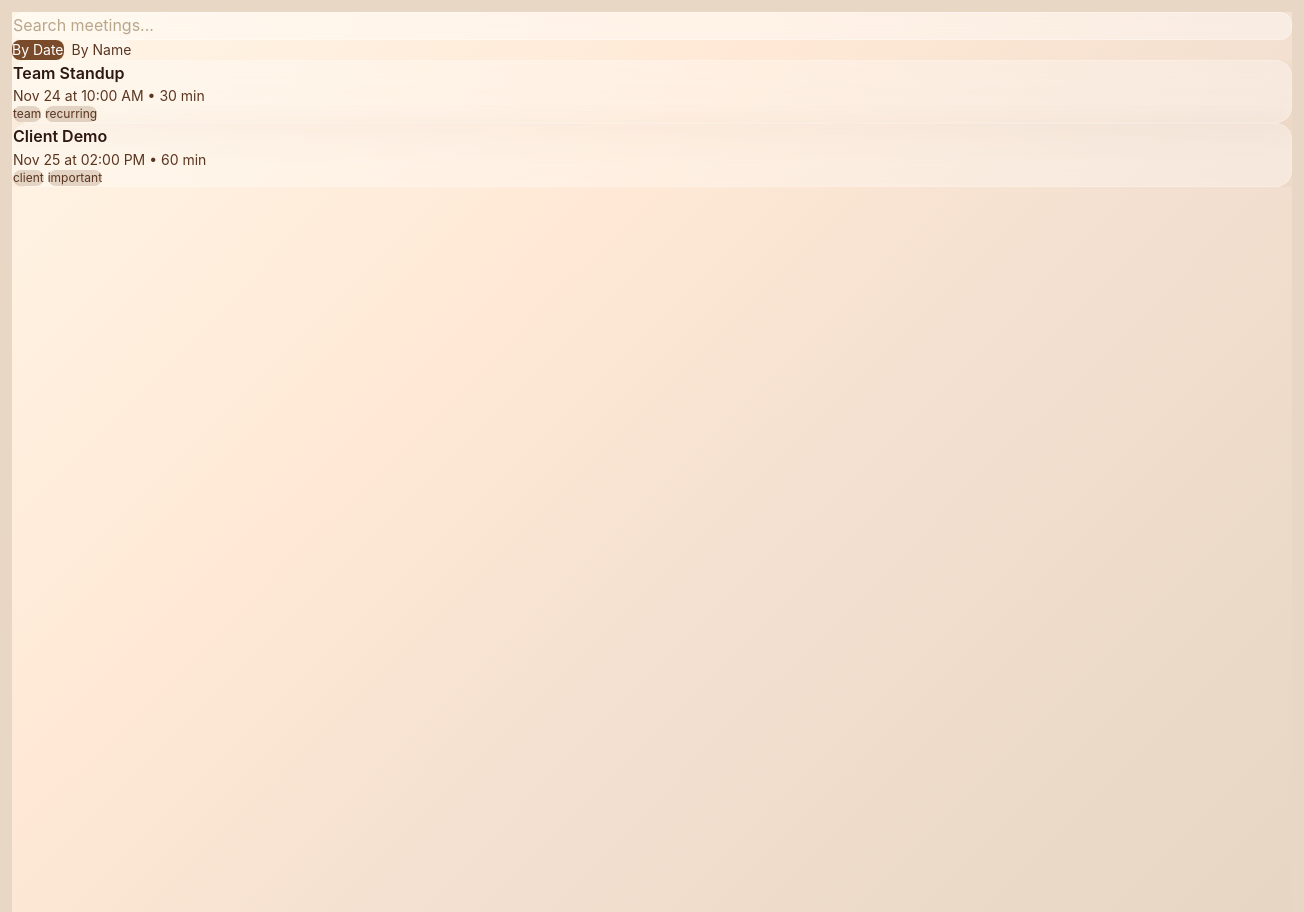
Scenario: MeetingList Component › filters meetings by search query
The image size is (1304, 912).
Type "Client" into the search field with placeholder "Search meetings..." at coordinates (652, 26), box 12,12 -> 1292,40
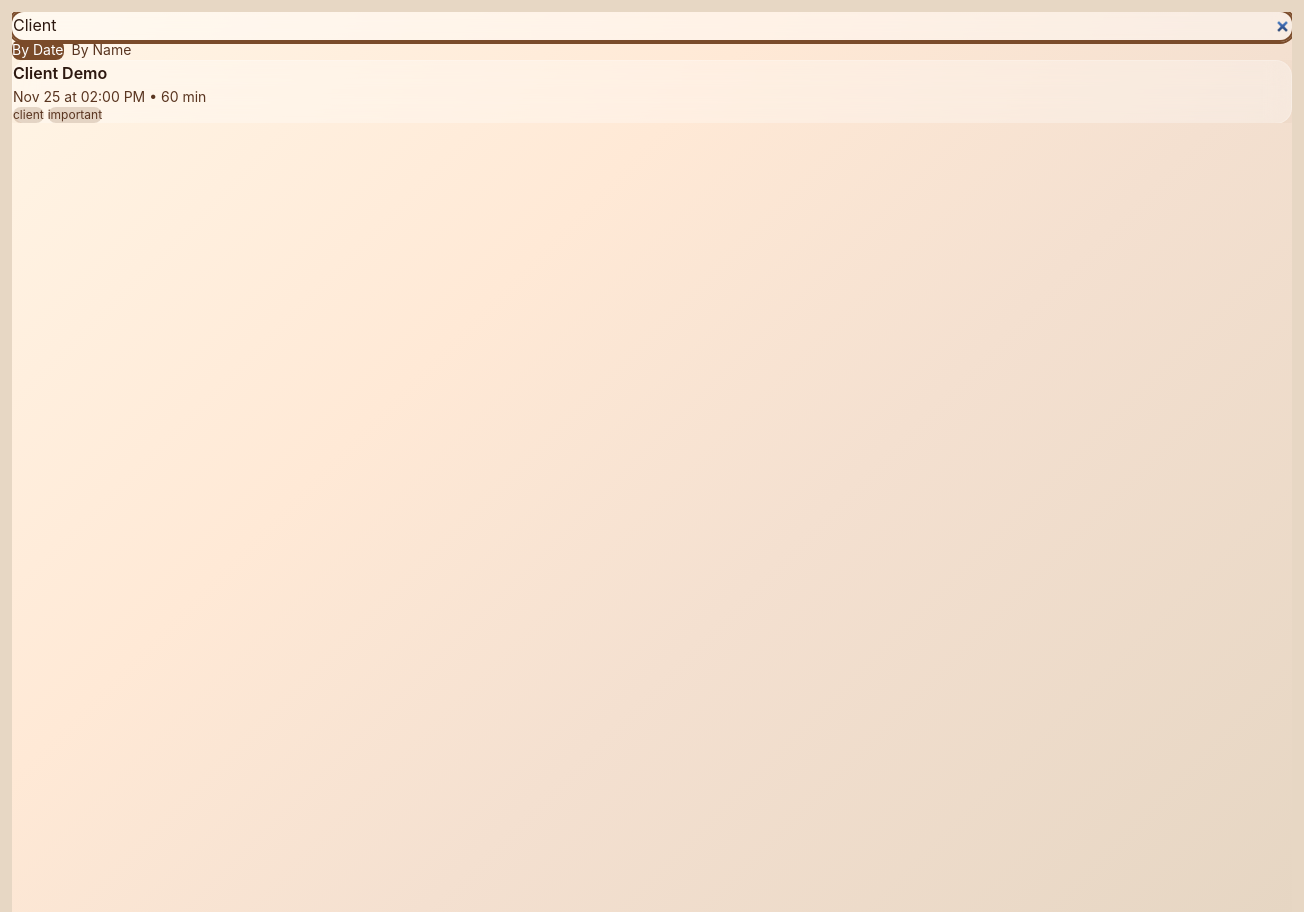
Expected: the heading "Client Demo" is shown, 13,63 -> 107,83
Expected: the button "Team Standup" is gone
